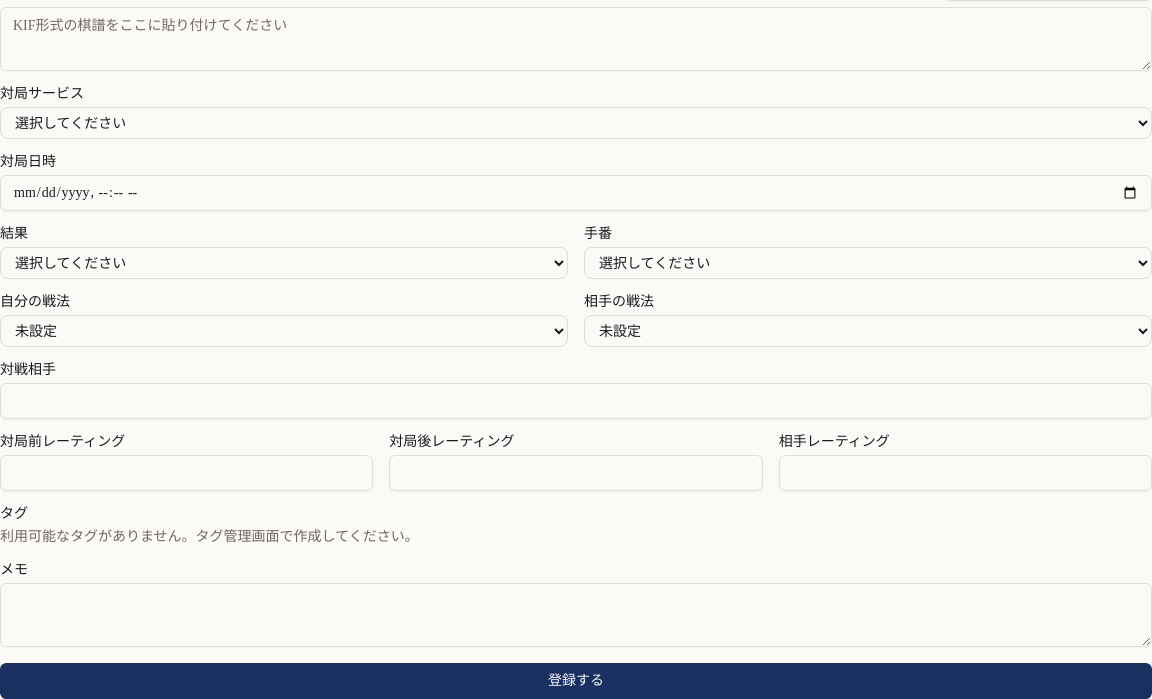
Test case: GameForm › 登録に失敗した場合はメッセージを表示する
(page scrolled)
Click the button "登録する".
click(576, 681)  # box x1=0 y1=663 x2=1151 y2=698
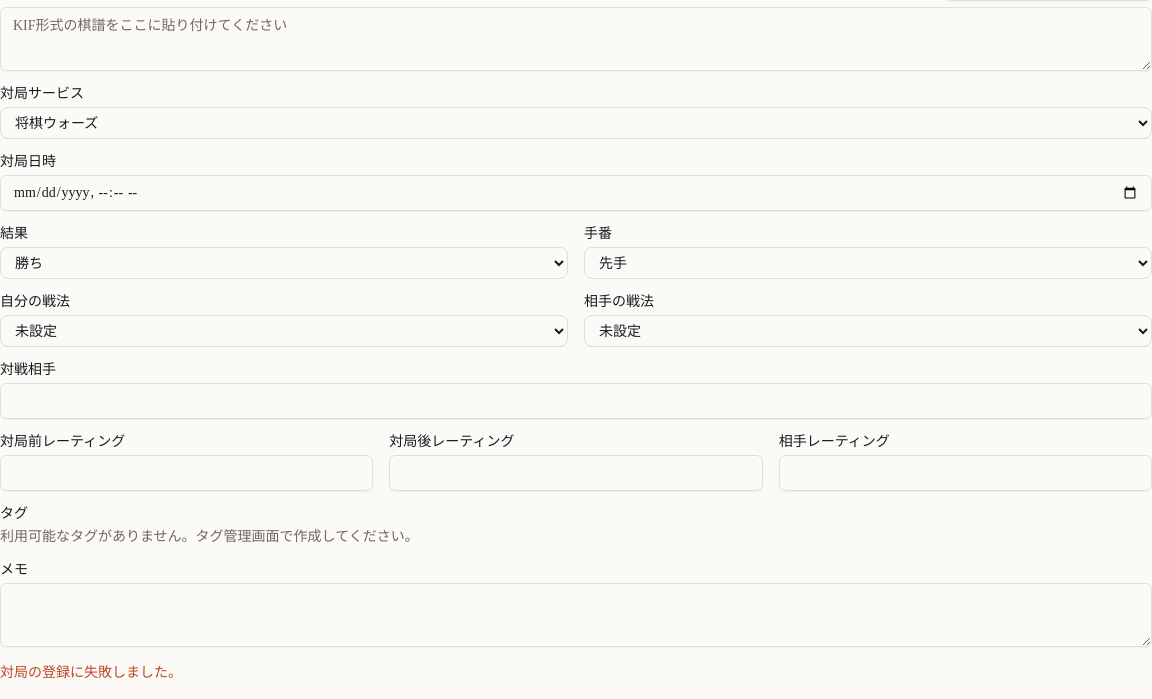
Check: the text "対局の登録に失敗しました。" is shown, box x1=0 y1=665 x2=182 y2=680
